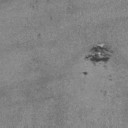iron sheet ash: (86, 43, 112, 64), (83, 72, 87, 76)
